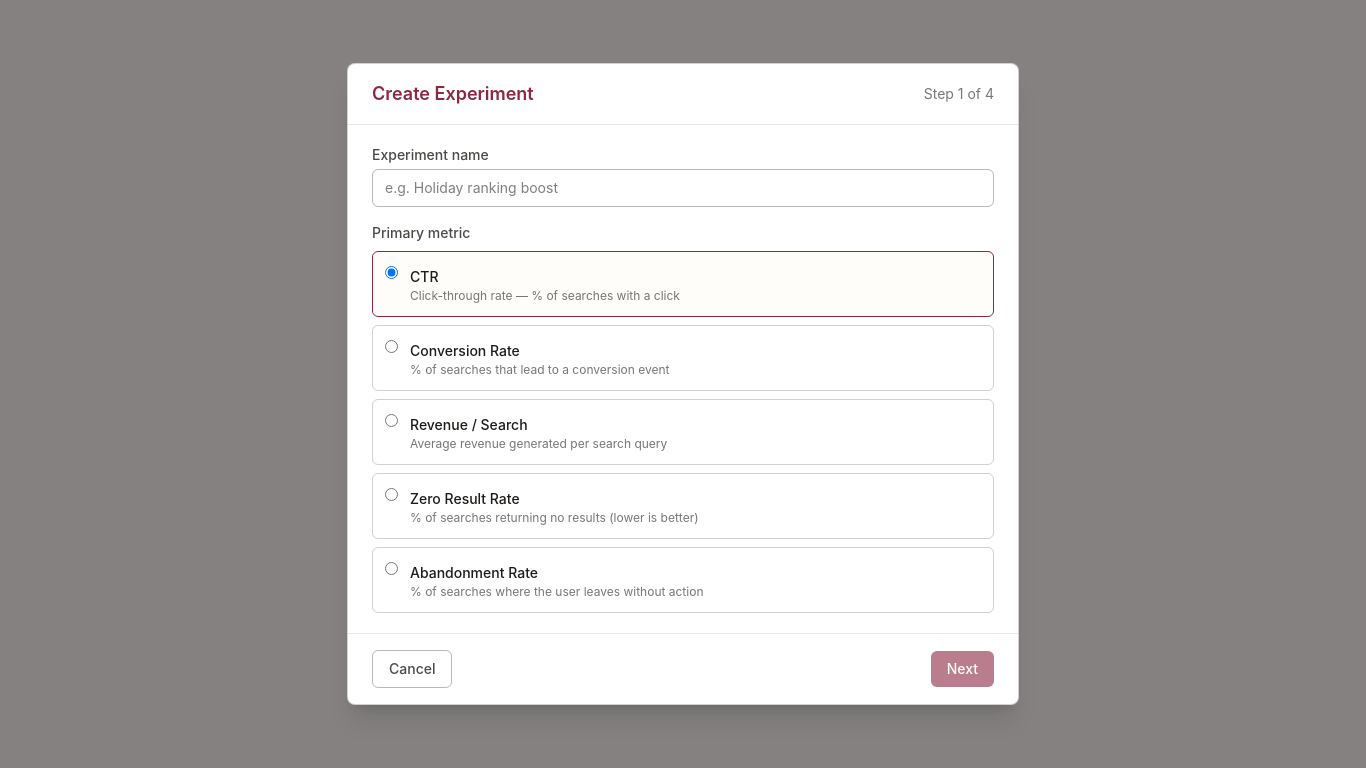
CreateExperimentDialog › Step 1 — Basics › shows inline validation error when Next clicked with blank name
Click the button "Next". click: (962, 669)
box: [931, 651, 994, 687]
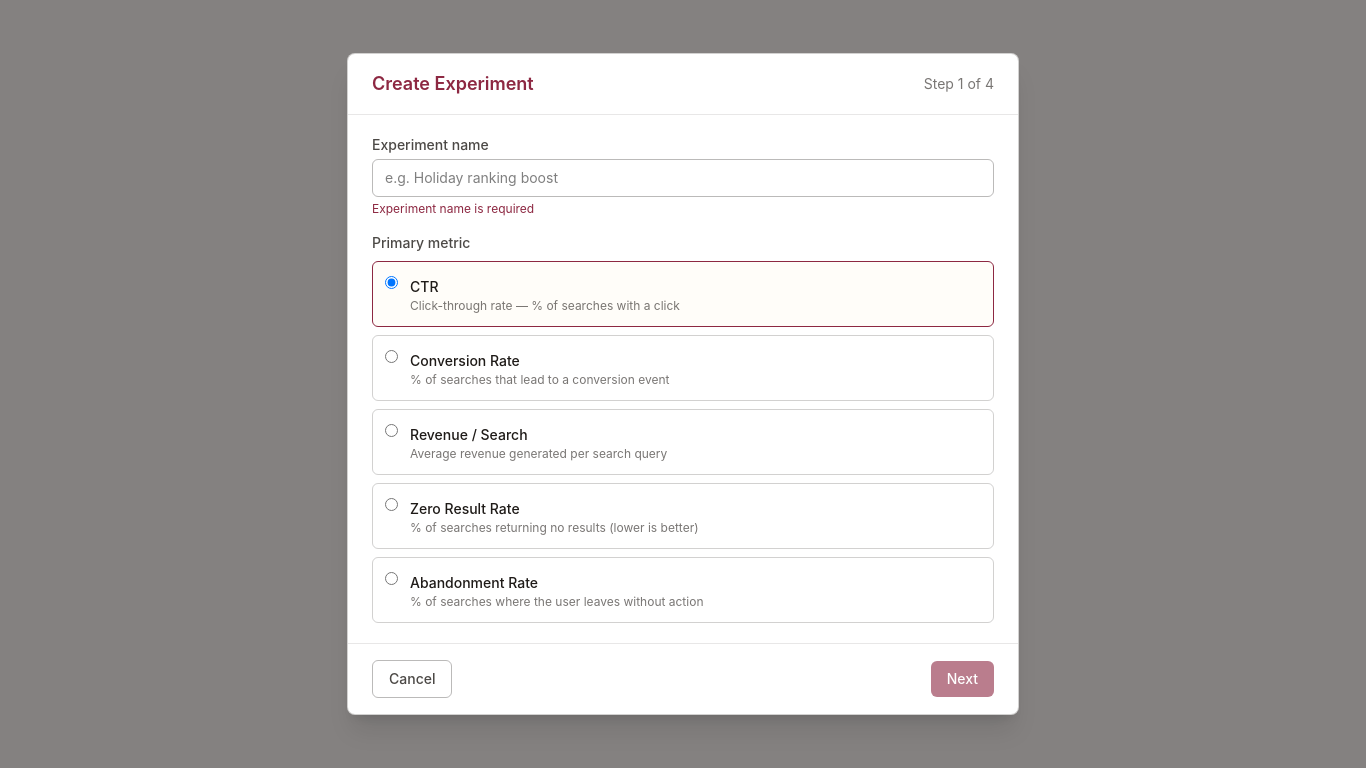
Expected: the text "Step 1 of 4" is shown, [924, 74, 994, 94]
Expected: the text "Experiment name is required" is shown, [372, 201, 534, 216]
